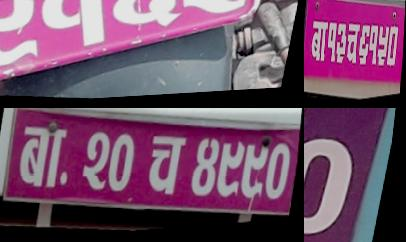0: (105, 128, 140, 197), (264, 142, 296, 206), (386, 25, 400, 75)
1: (174, 0, 256, 19), (325, 18, 339, 66), (367, 24, 380, 73)
2: (78, 127, 116, 194)
3: (37, 0, 117, 51), (334, 21, 349, 70)
4: (107, 0, 189, 31), (188, 135, 224, 203)
5: (376, 24, 390, 74)
6: (357, 23, 371, 71)
9: (215, 139, 249, 206), (240, 140, 272, 204)
ba: (14, 118, 70, 194), (309, 16, 329, 68)
cha: (304, 135, 361, 242), (144, 131, 190, 203), (345, 22, 361, 70)
lu: (0, 0, 51, 70)
